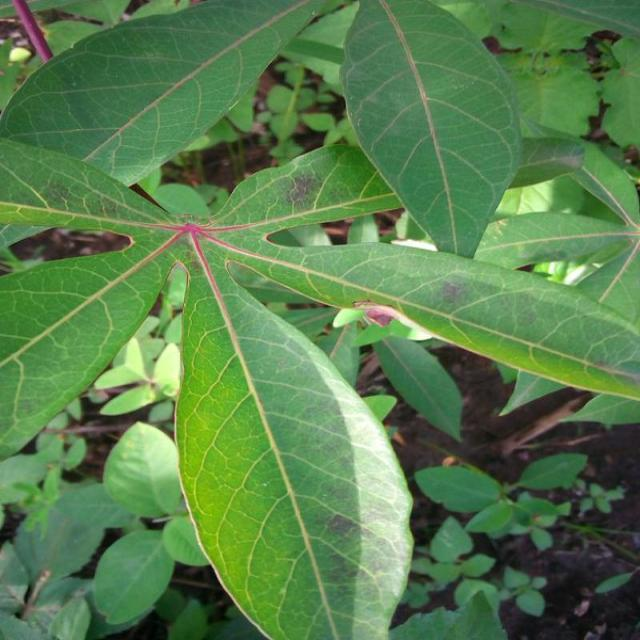cassava leaf: (1, 0, 638, 638), (173, 231, 414, 638), (338, 0, 522, 258)
